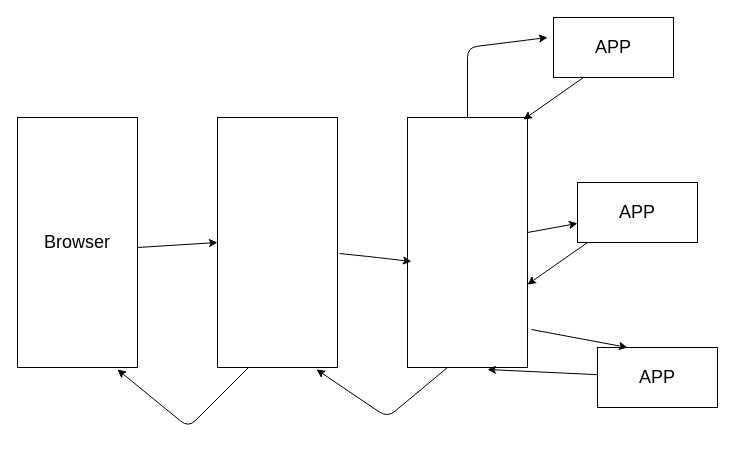
Image size: 735x453. Some labels were removed from this diagram. Here are the shapes that lost their labels. From the top down, the centre of each, then its label:
At point (277, 242): "Front end app in angular.js (running on node server)".
At point (467, 242): "Micro service (running on node.js)".
